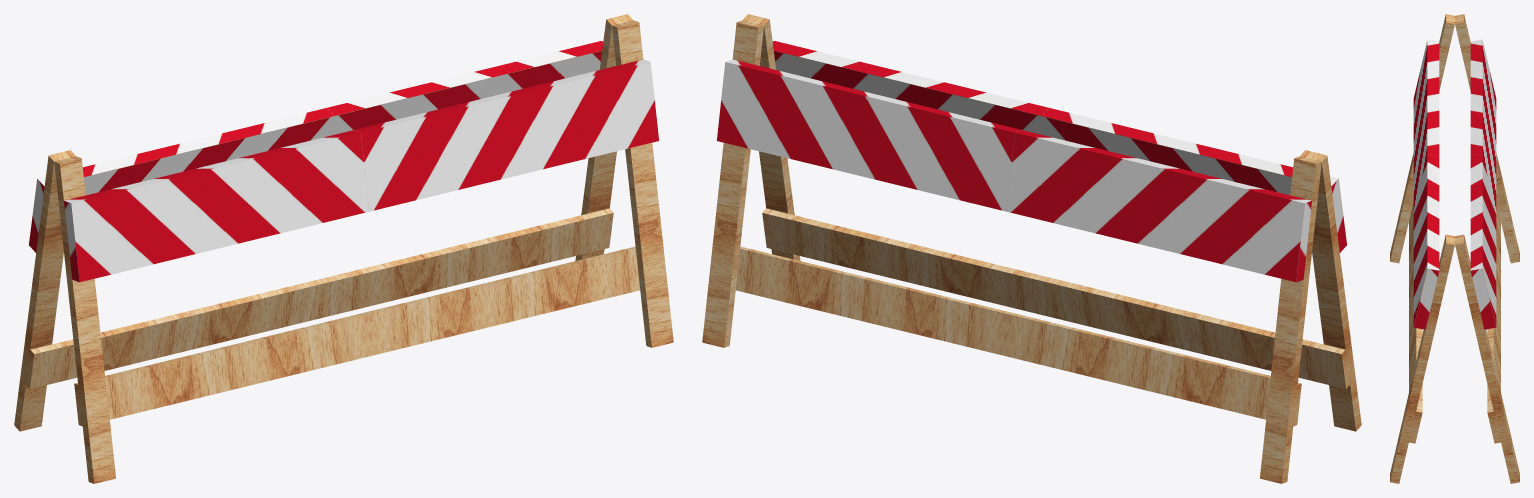
The model's file is constructionObstacle.obj.
3 views of the same model, side by side, from view 1: azimuth 30°, elevation 25°; view 2: azimuth 150°, elevation 25°; view 3: azimuth 270°, elevation 25° (orthographic). The views are drawn at different scales.
Parts seen in each view (by area): view 1: Cube.001; view 2: Cube.001; view 3: Cube.001.
Boxes of the visible parts, x1,y1,x2,y2 form: Cube.001: (14, 14, 673, 483); Cube.001: (702, 14, 1361, 483); Cube.001: (1390, 14, 1519, 483).
Size of the model in its own units: 7.6 by 3.72 by 1.82.
